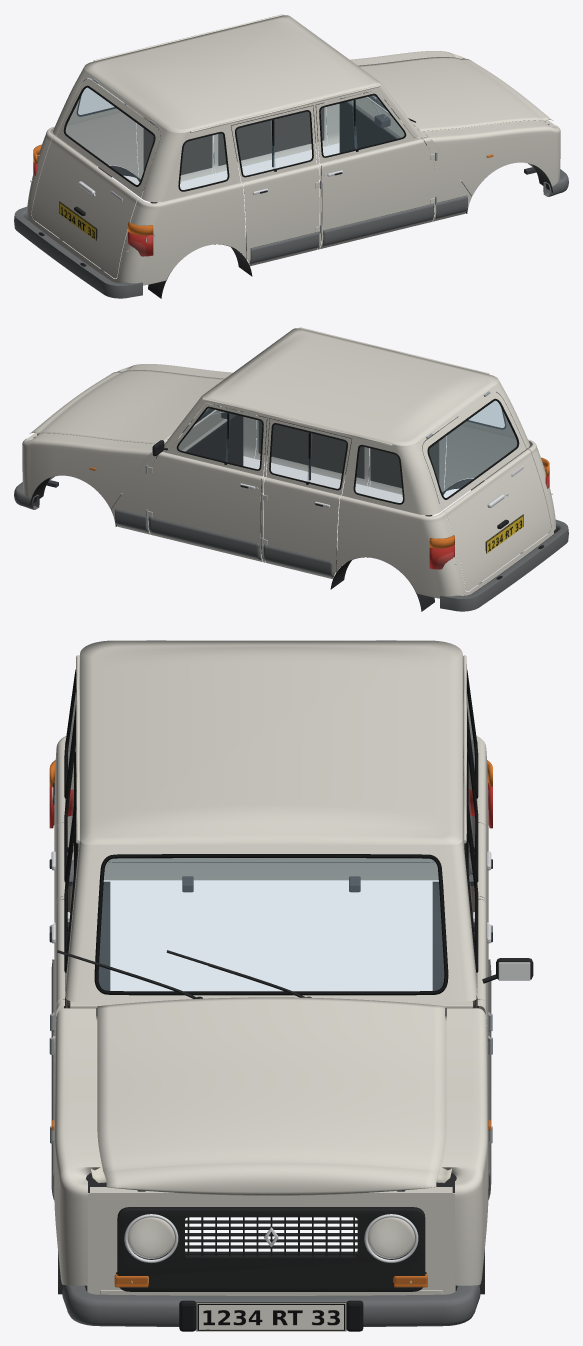
File: caisse.glb
3 renders of one model, top to bottom at view 1: azimuth 30°, elevation 25°; view 2: azimuth 150°, elevation 25°; view 3: azimuth 270°, elevation 25°, orthographic. The views are drawn at different scales.
Visible parts, largest first — view 1: caisse.peinture, hayon.peinture, portes.peinture, capot.peinture, portes.peinture.001, hayon.vitre, portes.vitre.001, portes.vitre, portes.garniture-porte.002, vitrage.vitre, pare-chocs.plastique-gris.001, portes.plastique-gris (+15 smaller); view 2: caisse.peinture, hayon.peinture, portes.peinture.002, capot.peinture, portes.peinture.003, hayon.vitre, portes.vitre.003, portes.vitre.002, portes.garniture-porte, vitrage.vitre, pare-chocs.plastique-gris.001, portes.plastique-gris.002 (+15 smaller); view 3: caisse.peinture, capot.peinture, vitrage.vitre, calandre.plastique-noir, pare-chocs.plastique-gris, caisse.joint-vitre, pare-chocs.plaque, phares.cabochon-blanc, phares.reflecteur, caisse.passage-roue, calandre.chrome, portes.peinture.002 (+10 smaller).
Part boxes in pixels (bbox=[...]): caisse.peinture: bbox=[27, 14, 560, 285]; hayon.peinture: bbox=[32, 79, 160, 278]; portes.peinture: bbox=[316, 90, 434, 248]; capot.peinture: bbox=[358, 57, 553, 131]; portes.peinture.001: bbox=[231, 106, 319, 266]; hayon.vitre: bbox=[66, 88, 153, 184]; portes.vitre.001: bbox=[236, 112, 311, 175]; portes.vitre: bbox=[321, 95, 404, 155]; portes.garniture-porte.002: bbox=[218, 102, 324, 165]; vitrage.vitre: bbox=[77, 78, 398, 189]; pare-chocs.plastique-gris.001: bbox=[14, 206, 142, 298]; portes.plastique-gris: bbox=[322, 203, 434, 246]; caisse.peinture: bbox=[22, 327, 555, 598]; hayon.peinture: bbox=[422, 392, 550, 591]; portes.peinture.002: bbox=[148, 403, 266, 561]; capot.peinture: bbox=[29, 370, 224, 443]; portes.peinture.003: bbox=[263, 419, 351, 579]; hayon.vitre: bbox=[429, 401, 516, 497]; portes.vitre.003: bbox=[271, 425, 346, 488]; portes.vitre.002: bbox=[178, 408, 261, 468]; portes.garniture-porte: bbox=[258, 415, 364, 478]; vitrage.vitre: bbox=[184, 391, 505, 502]; pare-chocs.plastique-gris.001: bbox=[440, 519, 568, 611]; portes.plastique-gris.002: bbox=[148, 516, 260, 559]; caisse.peinture: bbox=[52, 640, 488, 1295]; capot.peinture: bbox=[97, 997, 445, 1195]; vitrage.vitre: bbox=[68, 696, 474, 990]; calandre.plastique-noir: bbox=[117, 1207, 425, 1291]; pare-chocs.plastique-gris: bbox=[62, 1285, 480, 1326]; caisse.joint-vitre: bbox=[53, 669, 478, 995]; pare-chocs.plaque: bbox=[196, 1303, 346, 1331]; phares.cabochon-blanc: bbox=[127, 1217, 414, 1258]; phares.reflecteur: bbox=[128, 1217, 414, 1258]; caisse.passage-roue: bbox=[58, 881, 484, 1294]; calandre.chrome: bbox=[124, 1214, 418, 1262]; portes.peinture.002: bbox=[463, 843, 489, 1077].
Size of the model in its own units: 3.75 by 1.24 by 1.68.
22 materials, 2 textured.
